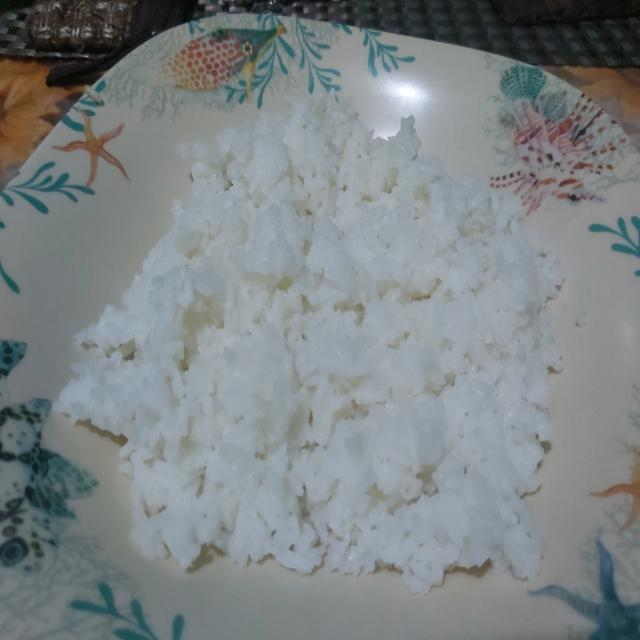Chicken -Chicken Inasal-: (98, 95, 564, 572)
